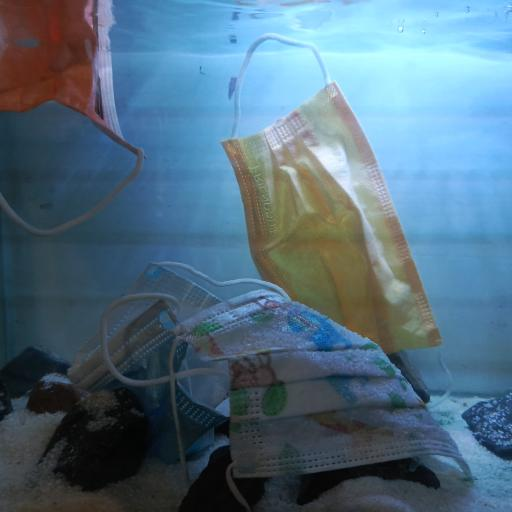mask: (220, 33, 444, 355), (170, 287, 478, 484), (65, 262, 294, 464), (0, 0, 143, 239)
